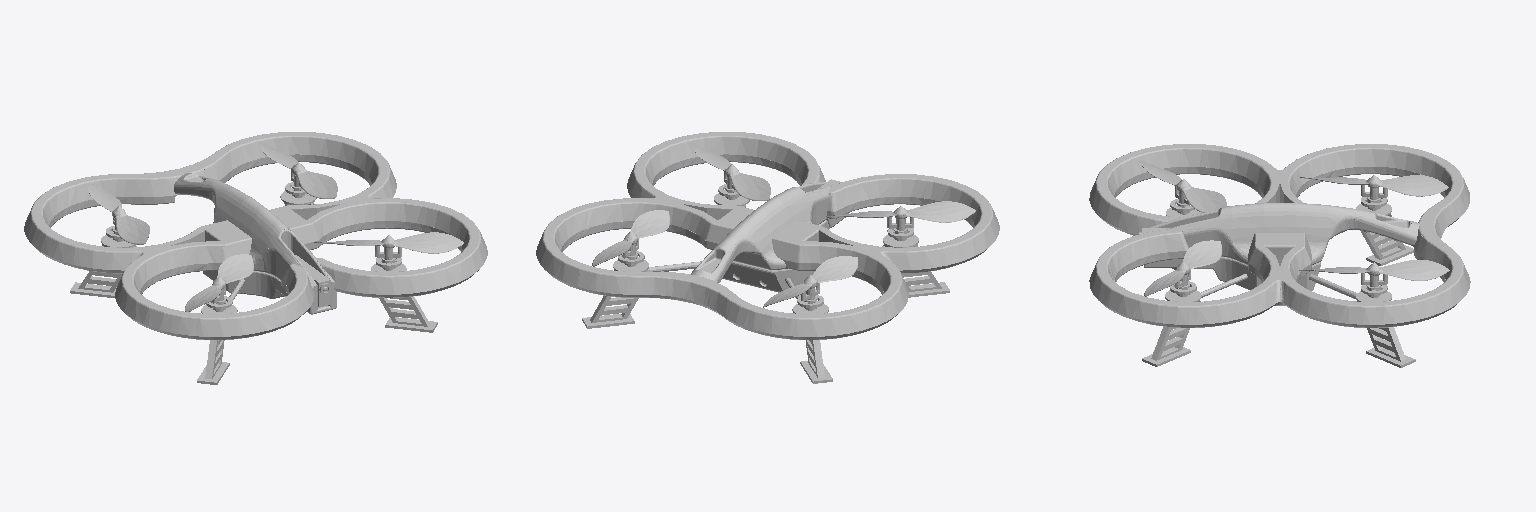
File: quadcop.obj
3 renders of one model, left to right at view 1: azimuth 30°, elevation 25°; view 2: azimuth 150°, elevation 25°; view 3: azimuth 270°, elevation 25°, orthographic.
Parts seen in each view (by area): view 1: Mesh_6, Mesh_4, Mesh_5, Mesh_7, Mesh_1, Mesh_3, Mesh_2, Mesh_9, Mesh_8; view 2: Mesh_6, Mesh_5, Mesh_7, Mesh_3, Mesh_1, Mesh_4, Mesh_0, Mesh_8, Mesh_9; view 3: Mesh_6, Mesh_3, Mesh_1, Mesh_5, Mesh_4, Mesh_7, Mesh_0, Mesh_2, Mesh_9.
Boxes of the visible parts, box(x1,y1,x2,y2) form: Mesh_6: box(24, 132, 487, 339); Mesh_4: box(314, 232, 463, 269); Mesh_5: box(203, 248, 331, 307); Mesh_7: box(185, 254, 253, 311); Mesh_1: box(260, 142, 337, 198); Mesh_3: box(88, 184, 149, 244); Mesh_2: box(371, 264, 437, 332); Mesh_9: box(70, 235, 136, 298); Mesh_8: box(197, 303, 237, 384); Mesh_6: box(536, 132, 999, 339); Mesh_5: box(648, 179, 884, 301); Mesh_7: box(826, 201, 975, 240); Mesh_3: box(763, 256, 858, 309); Mesh_1: box(592, 210, 669, 266); Mesh_4: box(693, 144, 770, 200); Mesh_0: box(582, 260, 648, 328); Mesh_8: box(883, 235, 949, 297); Mesh_9: box(792, 304, 832, 383); Mesh_6: box(1089, 144, 1470, 327); Mesh_3: box(1300, 175, 1448, 209); Mesh_1: box(1299, 260, 1449, 297); Mesh_5: box(1139, 228, 1356, 298); Mesh_4: box(1144, 240, 1221, 296); Mesh_7: box(1140, 160, 1226, 213); Mesh_0: box(1356, 291, 1415, 367); Mesh_2: box(1142, 290, 1200, 366); Mesh_9: box(1356, 204, 1413, 265).
Bounding box in the file's own units: 440 × 128 × 419.